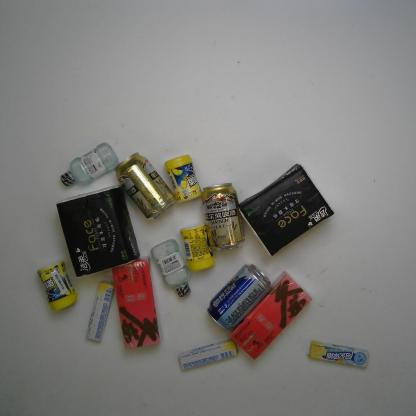Alcohol: (207, 263, 271, 332), (114, 150, 176, 221), (201, 181, 244, 252)
Candy: (176, 338, 239, 372), (86, 279, 116, 343), (307, 340, 369, 368)
Gum: (36, 260, 79, 312), (164, 153, 202, 204), (179, 223, 215, 271)
Instant Drink: (229, 270, 311, 362), (112, 258, 164, 350)
Personal Hygiene: (60, 141, 121, 187), (150, 238, 192, 298)
Tissue: (236, 162, 336, 258), (55, 184, 139, 278)
